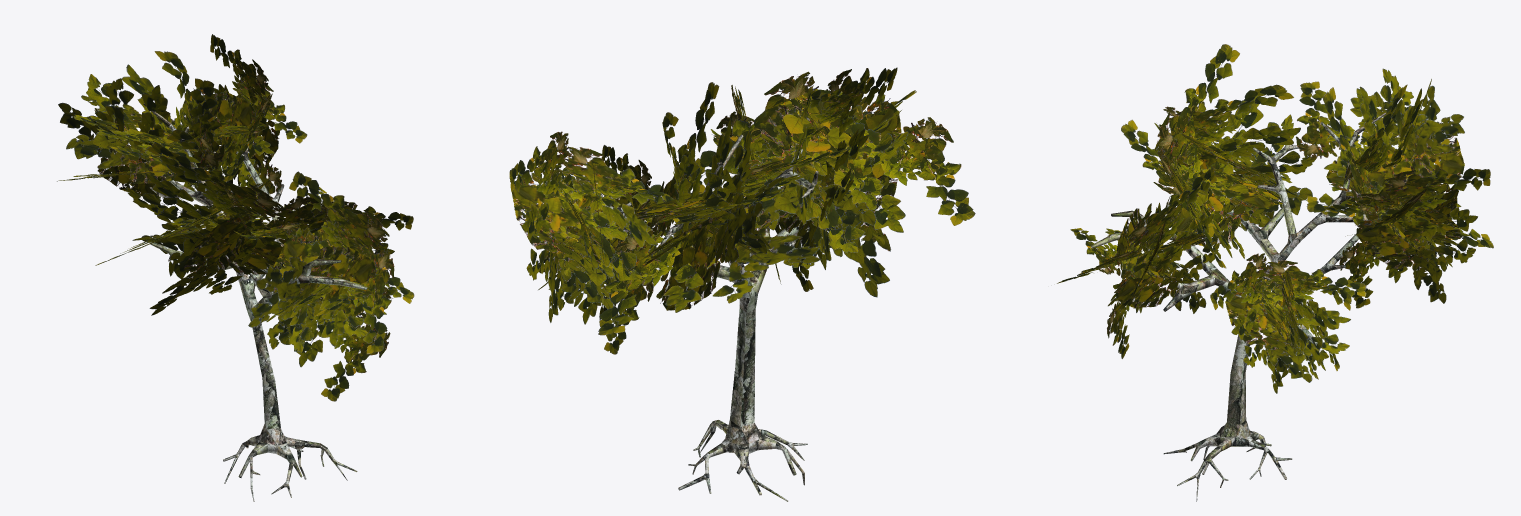
The model's file is Tree-olive.fbx.
3 renders of one model, left to right at view 1: azimuth 30°, elevation 25°; view 2: azimuth 150°, elevation 25°; view 3: azimuth 270°, elevation 25°, orthographic. The views are drawn at different scales.
Visible parts, largest first — view 1: Plane.008, Tree, Plane, Plane.024, Plane.022, Plane.004, Plane.009, Plane.005, Plane.006, Plane.013, Plane.002, Plane.010 (+8 smaller); view 2: Plane.001, Plane.014, Tree, Plane.024, Plane.020, Plane.004, Plane.012, Plane.010, Plane, Plane.023, Plane.022, Plane.003 (+5 smaller); view 3: Tree, Plane, Plane.010, Plane.005, Plane.023, Plane.002, Plane.029, Plane.024, Plane.003, Plane.025, Plane.021, Plane.027 (+13 smaller).
Boxes of the visible parts, bbox=[...] form: Plane.008: bbox=[256, 246, 390, 401]; Tree: bbox=[143, 103, 367, 501]; Plane: bbox=[126, 143, 290, 274]; Plane.024: bbox=[58, 78, 224, 198]; Plane.022: bbox=[66, 51, 213, 183]; Plane.004: bbox=[149, 196, 326, 315]; Plane.009: bbox=[248, 222, 394, 354]; Plane.005: bbox=[269, 171, 395, 334]; Plane.006: bbox=[273, 225, 414, 351]; Plane.013: bbox=[170, 92, 281, 220]; Plane.002: bbox=[150, 129, 252, 279]; Plane.010: bbox=[210, 34, 279, 191]; Plane.001: bbox=[746, 89, 975, 252]; Plane.014: bbox=[512, 146, 664, 309]; Tree: bbox=[548, 134, 850, 501]; Plane.024: bbox=[650, 82, 762, 310]; Plane.020: bbox=[598, 193, 820, 335]; Plane.004: bbox=[688, 71, 903, 297]; Plane.012: bbox=[549, 176, 680, 300]; Plane.010: bbox=[509, 131, 588, 322]; Plane: bbox=[782, 67, 897, 267]; Plane.023: bbox=[635, 148, 847, 224]; Plane.022: bbox=[662, 112, 770, 254]; Plane.003: bbox=[731, 90, 916, 228]; Tree: bbox=[1091, 112, 1427, 501]; Plane: bbox=[1154, 44, 1312, 246]; Plane.010: bbox=[1355, 168, 1490, 303]; Plane.005: bbox=[1113, 167, 1219, 313]; Plane.023: bbox=[1296, 81, 1464, 191]; Plane.002: bbox=[1154, 84, 1317, 218]; Plane.029: bbox=[1225, 260, 1366, 382]; Plane.024: bbox=[1323, 68, 1440, 219]; Plane.003: bbox=[1121, 117, 1287, 211]; Plane.025: bbox=[1210, 253, 1284, 393]; Plane.021: bbox=[1306, 91, 1464, 225]; Plane.027: bbox=[1266, 278, 1351, 377].
Size of the model in its own units: 643 by 694 by 747.
